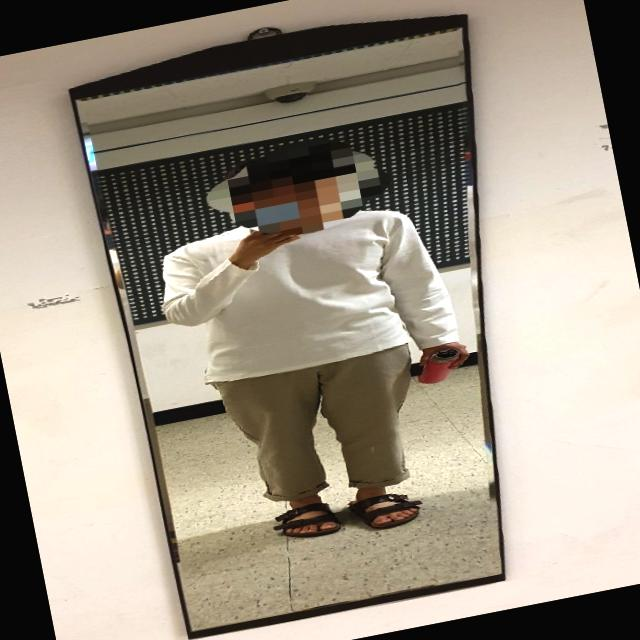cottonpants: (220, 341, 440, 517)
longsleeve: (153, 190, 470, 405)
